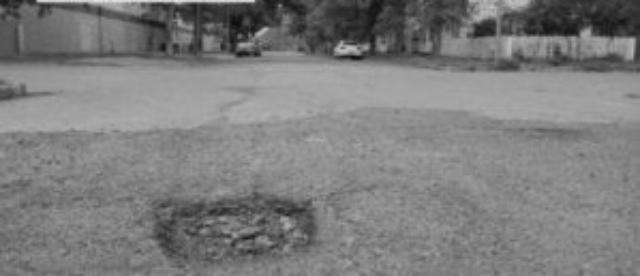Pothole: (149, 181, 332, 276)
